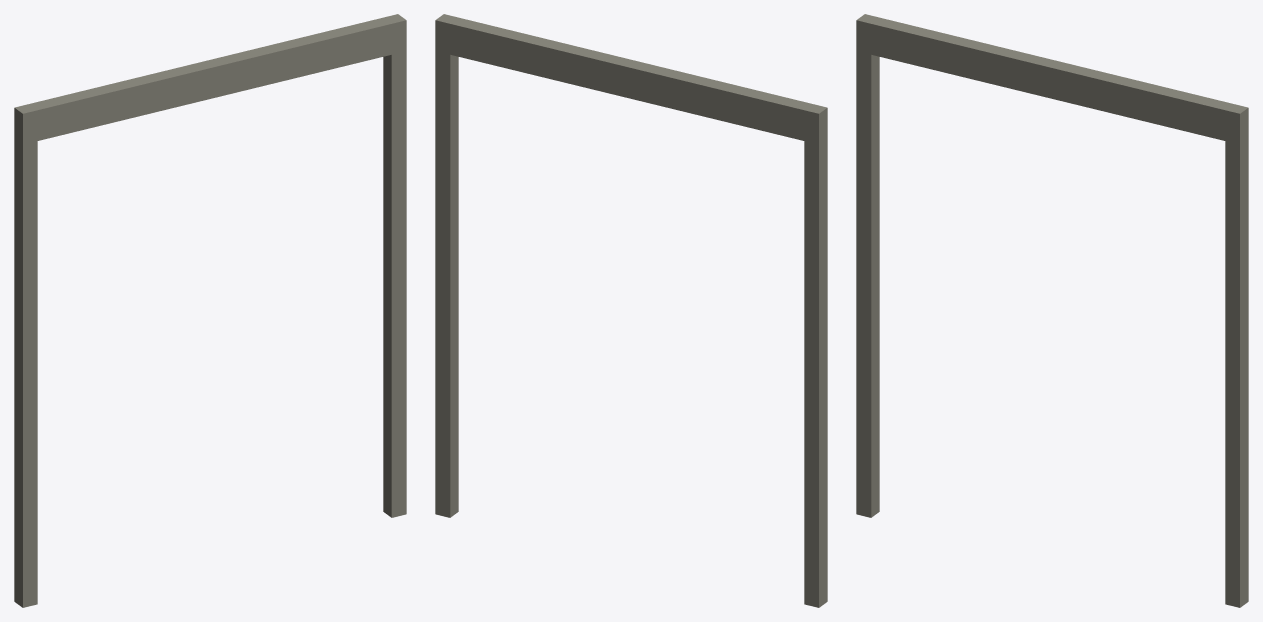
The model's file is es-flame_h2400-w1800_stain.fbx.
3 views of the same model, side by side, from view 1: azimuth 30°, elevation 25°; view 2: azimuth 150°, elevation 25°; view 3: azimuth 330°, elevation 25° (orthographic).
Visible parts, largest first — view 1: es-flame_h2400-w1800_stain; view 2: es-flame_h2400-w1800_stain; view 3: es-flame_h2400-w1800_stain.
Boxes of the visible parts, box(x1,y1,x2,y2) form: es-flame_h2400-w1800_stain: box(14, 14, 406, 607); es-flame_h2400-w1800_stain: box(435, 14, 827, 607); es-flame_h2400-w1800_stain: box(856, 14, 1248, 607).
Bounding box in the file's own units: 195 × 240 × 7.5.
Materials: 1 (1 with a texture image).
